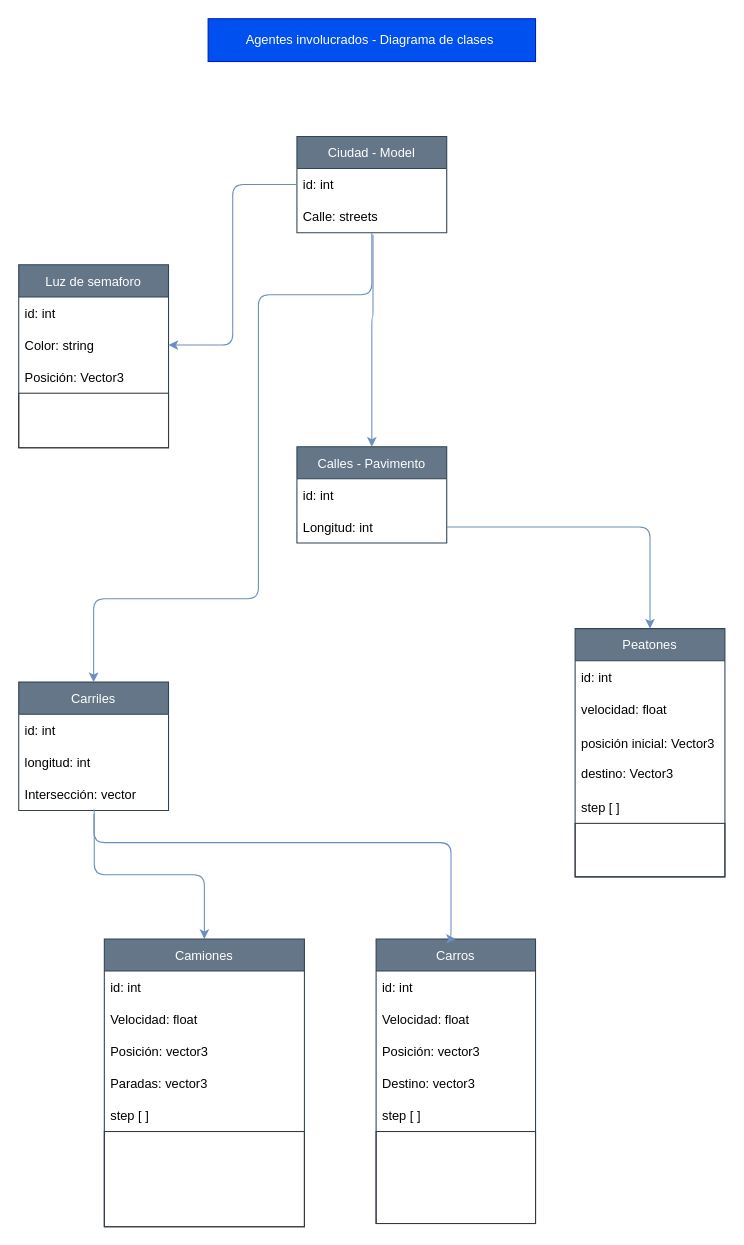
Some shapes in this 744 by 1245 pixel diagram are drawn without their labels. The centre of each missing label's shape, as x and y in pixels:
Avanzar: void() Detenerse: void(): [649,849]
Avanzar: void() Detenerse: void() Cambiar direccion por condición: [203,1178]
Avanzar: void() Detenerse: void() Cambiar dirección: void(): [455,1177]
CambiarColor. Void() + Verde - Rojo: [93,420]
